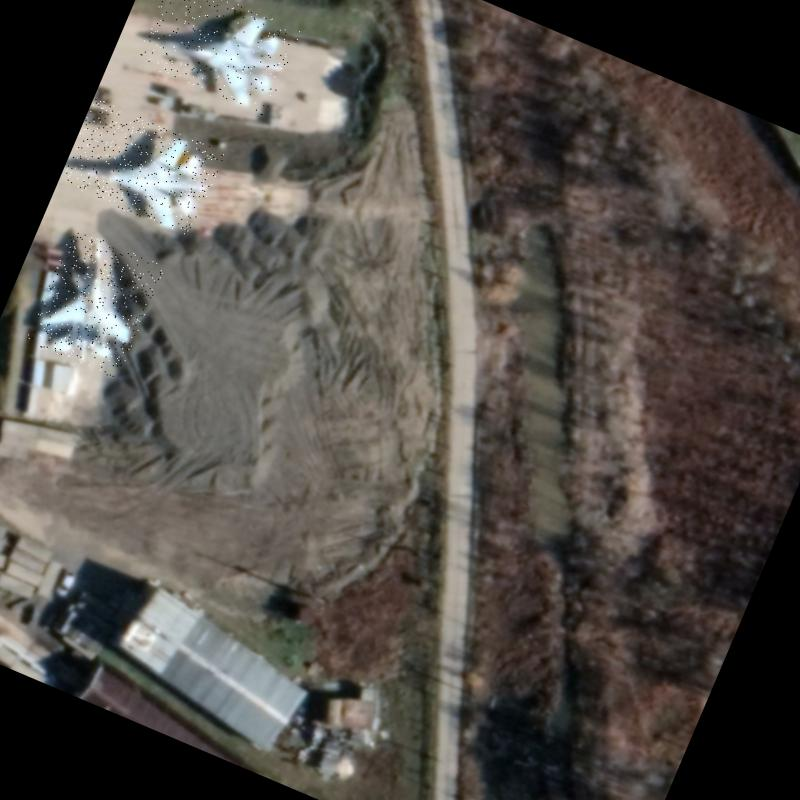A1: (58, 98, 226, 239), (26, 228, 165, 380), (135, 0, 301, 117)
